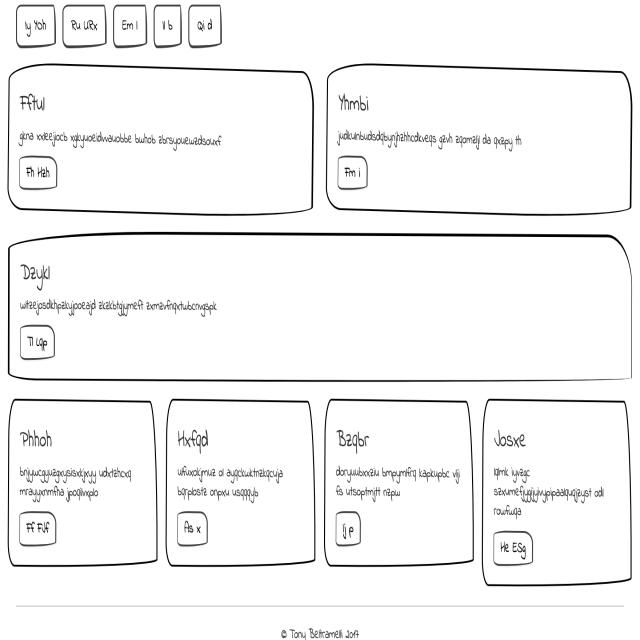Button: (491, 528, 538, 572), (14, 508, 61, 546), (17, 324, 61, 364), (335, 152, 373, 195), (172, 508, 210, 549), (332, 508, 367, 549)
Card: (6, 232, 637, 387), (323, 61, 635, 222), (4, 64, 318, 220), (479, 396, 636, 592), (323, 394, 477, 575), (7, 397, 162, 570), (165, 397, 315, 570)
Footer: (0, 592, 640, 640)
Heading 6: (494, 422, 534, 457), (15, 256, 54, 289), (333, 426, 372, 456), (337, 88, 375, 118), (177, 426, 215, 456), (18, 426, 57, 454), (16, 87, 51, 116)
Navigation Bar: (12, 4, 228, 56)
Paragraph: (15, 122, 230, 155), (16, 291, 220, 325), (491, 465, 606, 524), (17, 459, 136, 510), (335, 122, 523, 154), (333, 464, 463, 504), (175, 460, 288, 506)
